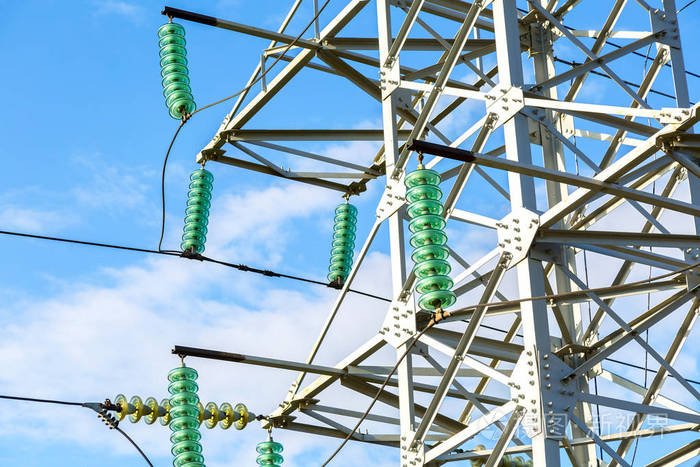insulator: (404, 168, 454, 311), (114, 394, 251, 433), (166, 368, 204, 467), (157, 23, 193, 119), (179, 170, 215, 252), (326, 203, 357, 280), (254, 440, 286, 467)
